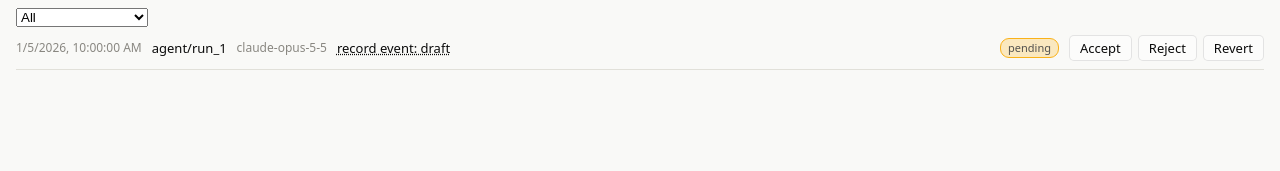
Test: LedgerView › lists only an UPDATE's changed columns, not its primary key
The width and height of the screenshot is (1280, 171).
Click the button "record event: draft". click: (393, 48)
box: [337,39,990,57]
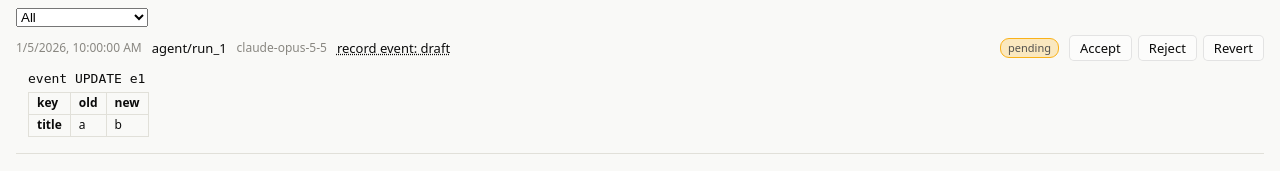
expect the text "b" is shown: met, box [106,115,148,136]
